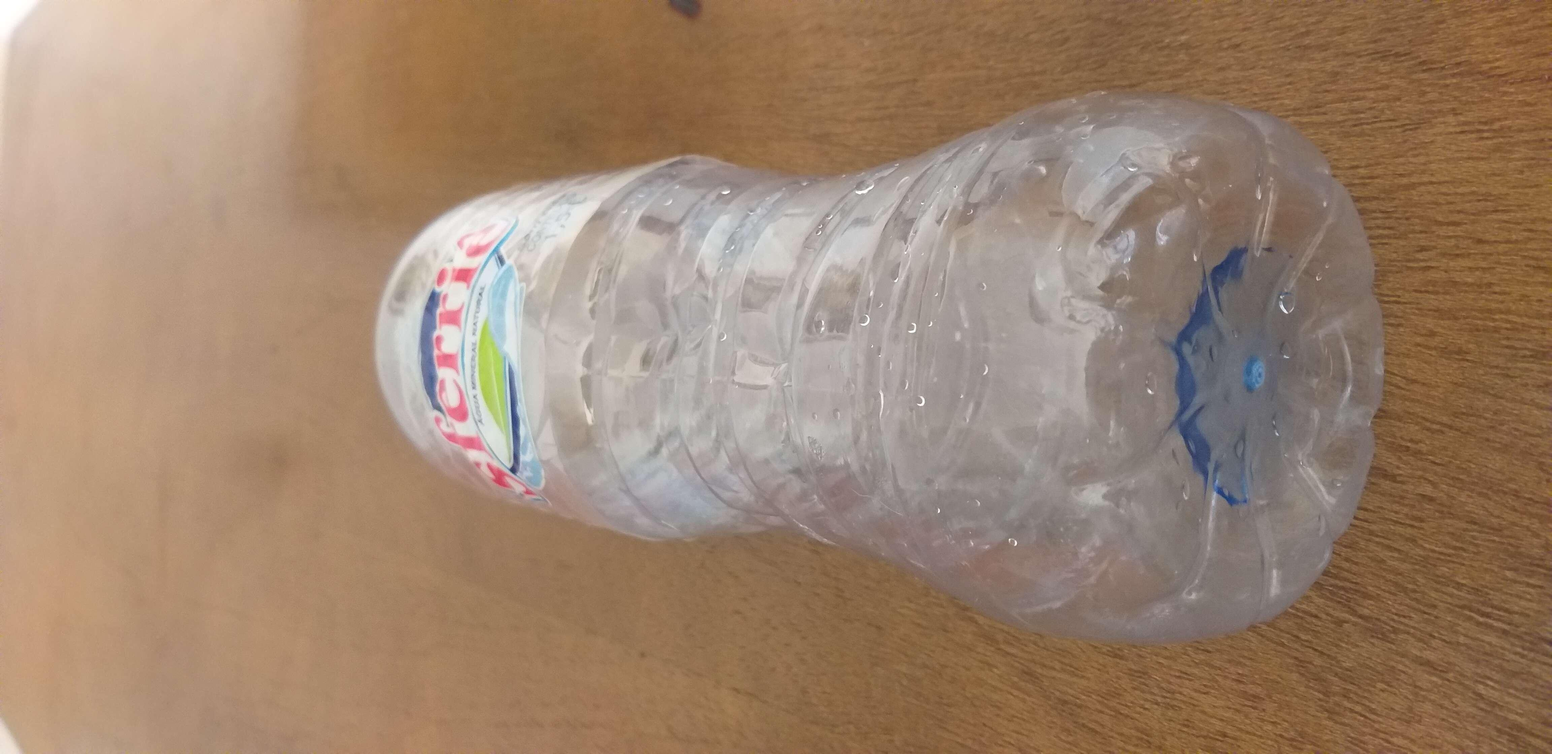bottle-plastic: (364, 79, 1397, 658)
